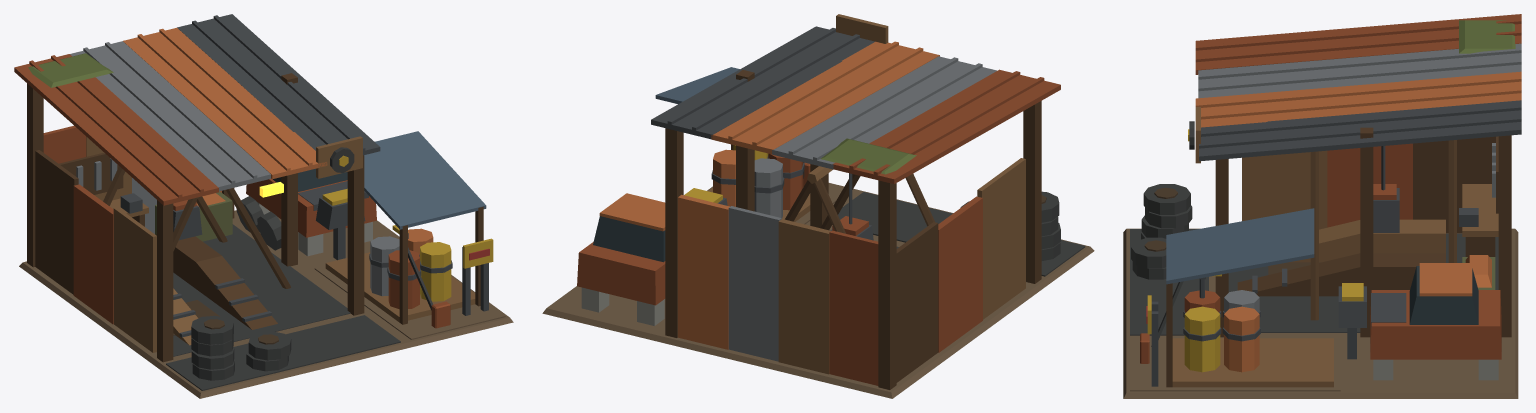
File: garage_l1.glb
3 views of the same model, side by side, from view 1: azimuth 30°, elevation 25°; view 2: azimuth 150°, elevation 25°; view 3: azimuth 270°, elevation 25° (orthographic). The views are drawn at different scales.
Parts seen in each view (by area): view 1: garage_structure, garage_roof, garage_props; view 2: garage_structure, garage_roof, garage_props; view 3: garage_props, garage_roof, garage_structure.
Boxes of the visible parts, x1,y1,x2,y2 form: garage_structure: (19,73,513,398); garage_roof: (14,14,486,229); garage_props: (59,136,493,380); garage_structure: (542,70,1094,398); garage_roof: (651,26,1060,183); garage_props: (577,14,1060,325); garage_props: (1131,107,1501,387); garage_roof: (1166,14,1521,284); garage_structure: (1123,127,1518,398).
Bounding box in the file's own units: 6.06 × 3.68 × 6.05.
